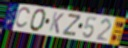2: (95, 18, 112, 43)
5: (82, 16, 98, 40)
C: (13, 7, 32, 30)
K: (48, 11, 65, 35)
O: (29, 9, 47, 33)
Z: (61, 14, 83, 38)
